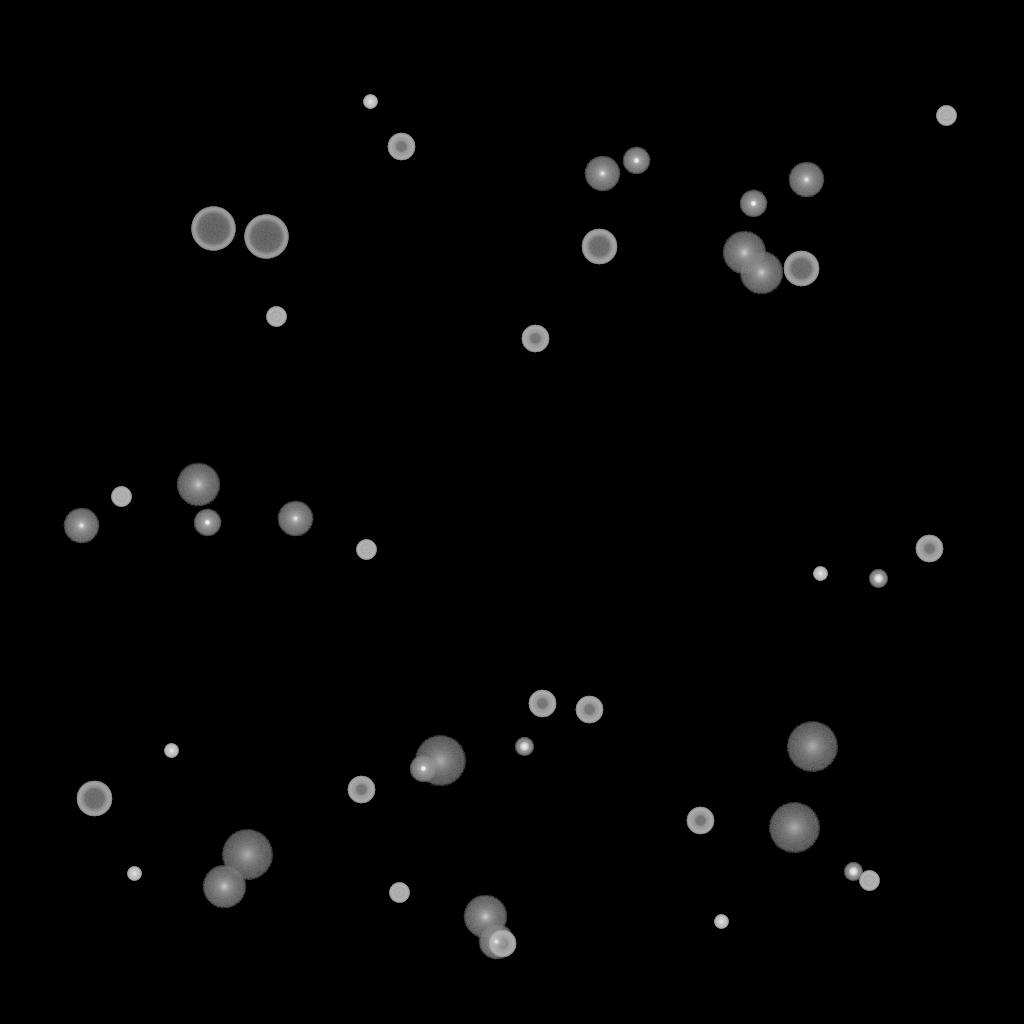depth:-10: (409, 755, 437, 783), (622, 147, 650, 175), (193, 509, 221, 537), (739, 190, 767, 218)
depth:-20: (844, 863, 862, 881), (515, 738, 533, 756), (869, 570, 887, 588)
depth:-30: (714, 915, 728, 929), (363, 95, 377, 109), (164, 744, 178, 758), (813, 567, 827, 581), (127, 867, 141, 881)
depth:-40: (859, 871, 879, 891), (266, 307, 286, 327), (936, 106, 956, 126), (356, 540, 376, 560), (111, 487, 131, 507), (389, 883, 409, 903)
depth:-50: (915, 535, 943, 563), (347, 776, 375, 804), (521, 325, 549, 353), (686, 807, 714, 835), (528, 690, 556, 718), (488, 930, 516, 958), (575, 696, 603, 724), (387, 133, 415, 161)
depth:-60: (76, 781, 112, 817), (581, 229, 617, 265), (783, 251, 819, 287)
depth:-70: (191, 207, 235, 251), (244, 215, 288, 259)
depth:0: (277, 501, 313, 537), (478, 924, 514, 960), (788, 162, 824, 198), (63, 508, 99, 544), (584, 156, 620, 192)
depth:10: (176, 463, 220, 507), (463, 895, 507, 939), (202, 865, 246, 909), (739, 251, 783, 295), (722, 231, 766, 275)
depth:20: (786, 722, 838, 772), (768, 803, 820, 853), (414, 736, 466, 786), (221, 830, 273, 880)
